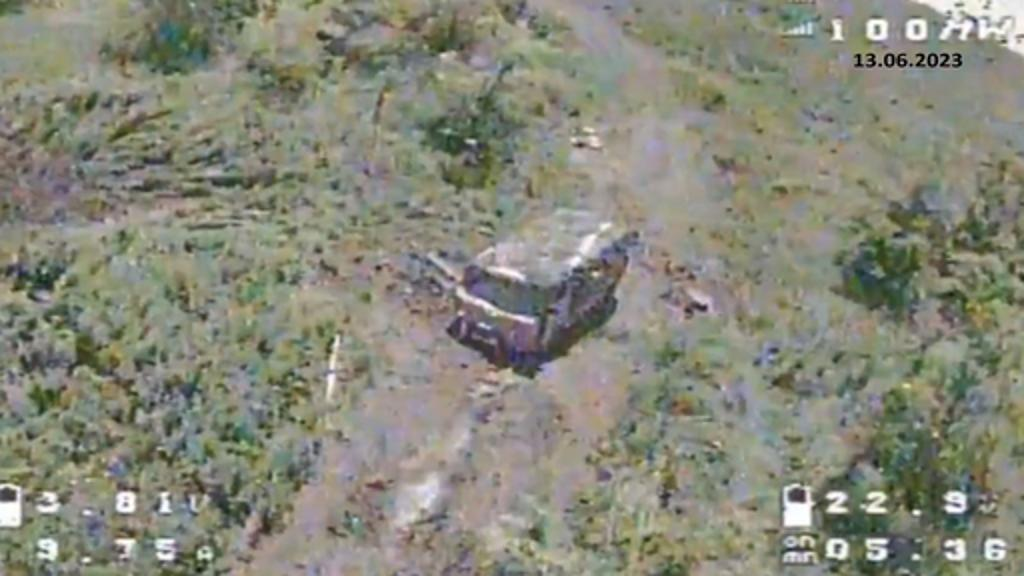CAR: (446, 202, 636, 362)
